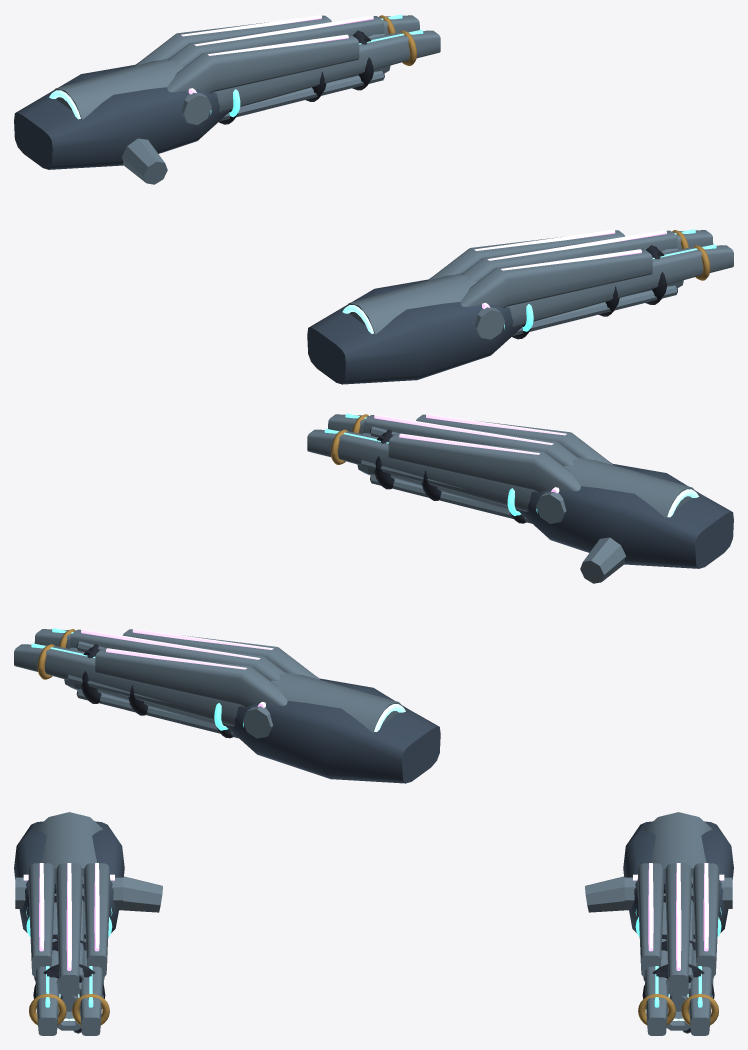
Rendered from mount.glb.
3 renders of one model, top to bottom at view 1: azimuth 30°, elevation 25°; view 2: azimuth 150°, elevation 25°; view 3: azimuth 270°, elevation 25°, orthographic. The views are drawn at different scales.
Parts seen in each view (by area): view 1: m_heavy Fitting gunmetal, m_array Brushed fitting edges, m_siege Brushed fitting edges, m_rotary Brushed fitting edges, m_array m_array emitter, m_heavy Brushed fitting edges, m_rotary Machined graphite, m_siege m_siege emitter, m_siege Champagne gold edging; view 2: m_heavy Fitting gunmetal, m_array Brushed fitting edges, m_siege Brushed fitting edges, m_rotary Brushed fitting edges, m_array m_array emitter, m_heavy Brushed fitting edges, m_rotary Machined graphite, m_siege m_siege emitter, m_siege Champagne gold edging; view 3: m_array Brushed fitting edges, m_rotary Brushed fitting edges, m_heavy Fitting gunmetal, m_siege Brushed fitting edges, m_heavy Brushed fitting edges, m_array m_array emitter, m_siege Champagne gold edging, m_siege m_siege emitter, m_rotary Machined graphite, m_siege Machined graphite.
Boxes of the visible parts, <box> form: m_heavy Fitting gunmetal: <box>14,64,522,384</box>; m_array Brushed fitting edges: <box>134,15,677,339</box>; m_siege Brushed fitting edges: <box>214,15,733,327</box>; m_rotary Brushed fitting edges: <box>49,58,677,336</box>; m_array m_array emitter: <box>181,15,666,308</box>; m_heavy Brushed fitting edges: <box>121,34,683,294</box>; m_rotary Machined graphite: <box>306,30,677,316</box>; m_siege m_siege emitter: <box>210,14,716,331</box>; m_siege Champagne gold edging: <box>379,15,710,280</box>; m_heavy Fitting gunmetal: <box>225,463,733,783</box>; m_array Brushed fitting edges: <box>70,414,613,738</box>; m_siege Brushed fitting edges: <box>14,414,534,726</box>; m_rotary Brushed fitting edges: <box>68,426,698,738</box>; m_array m_array emitter: <box>81,414,566,707</box>; m_heavy Brushed fitting edges: <box>64,433,626,724</box>; m_rotary Machined graphite: <box>76,428,441,715</box>; m_siege m_siege emitter: <box>31,413,537,730</box>; m_siege Champagne gold edging: <box>37,414,368,679</box>; m_array Brushed fitting edges: <box>15,863,732,996</box>; m_rotary Brushed fitting edges: <box>35,812,713,1033</box>; m_heavy Fitting gunmetal: <box>14,821,733,932</box>; m_siege Brushed fitting edges: <box>35,893,712,1035</box>; m_heavy Brushed fitting edges: <box>56,876,690,1030</box>; m_array m_array emitter: <box>23,863,724,970</box>; m_siege Champagne gold edging: <box>29,994,718,1025</box>; m_siege m_siege emitter: <box>26,907,721,1007</box>; m_rotary Machined graphite: <box>33,940,714,1032</box>; m_siege Machined graphite: <box>47,934,700,978</box>.
Bounding box in the file's own units: 17 × 3.72 × 26.
